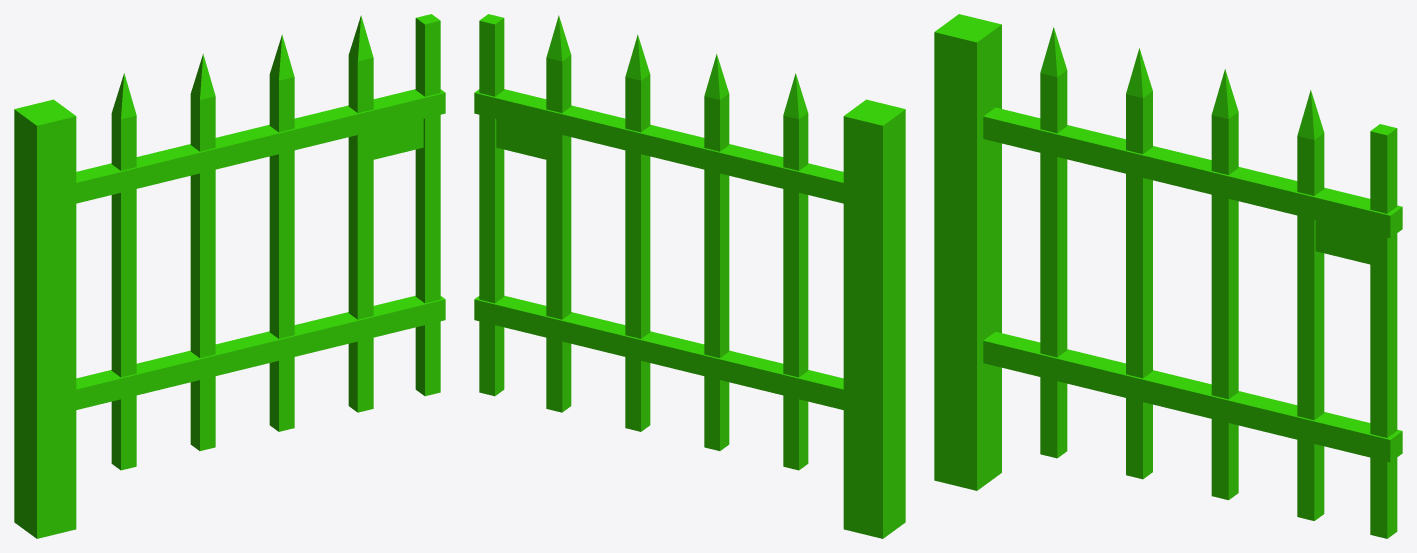
File: fence1_double_gate.fbx
3 views of the same model, side by side, from view 1: azimuth 30°, elevation 25°; view 2: azimuth 150°, elevation 25°; view 3: azimuth 330°, elevation 25° (orthographic). The views are drawn at different scales.
Visible parts, largest first — view 1: fence1_double_gate, fence1_double_gate_support; view 2: fence1_double_gate, fence1_double_gate_support; view 3: fence1_double_gate, fence1_double_gate_support.
Part boxes in pixels (<box>): fence1_double_gate: <box>76,14,445,470</box>; fence1_double_gate_support: <box>14,99,76,538</box>; fence1_double_gate: <box>474,14,843,470</box>; fence1_double_gate_support: <box>843,99,905,538</box>; fence1_double_gate: <box>983,27,1402,538</box>; fence1_double_gate_support: <box>934,14,1001,490</box>.
Size of the model in its own units: 105 by 105 by 10.
